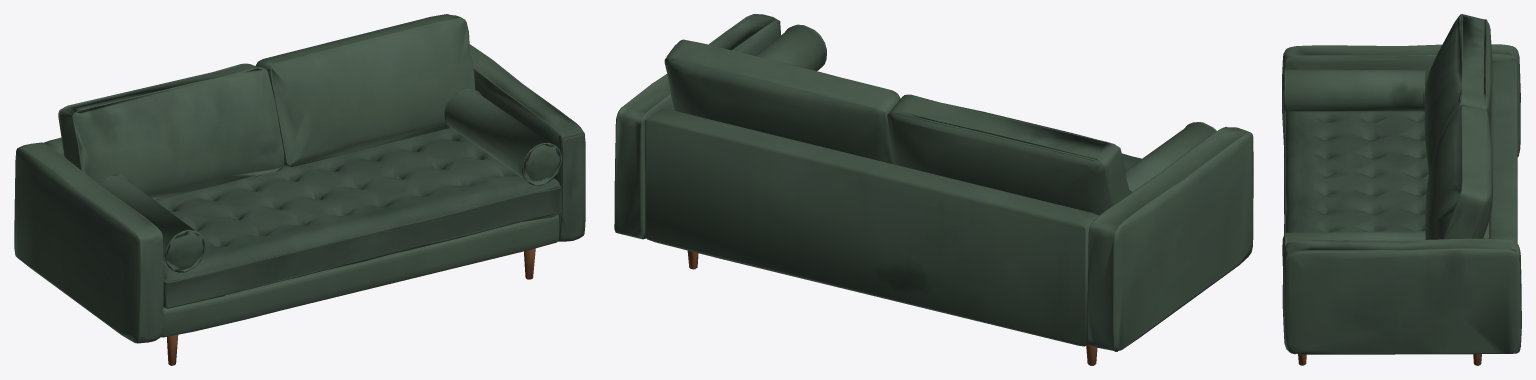
Rendered from B07BKK336B.glb.
3 renders of one model, left to right at view 1: azimuth 30°, elevation 25°; view 2: azimuth 150°, elevation 25°; view 3: azimuth 270°, elevation 25°, orthographic. The views are drawn at different scales.
Visible parts, largest first — view 1: RootNode; view 2: RootNode; view 3: RootNode.
Part boxes in pixels (x1,y1,x2,y2): RootNode: (14, 14, 585, 365); RootNode: (614, 14, 1253, 365); RootNode: (1282, 14, 1521, 365).
Size of the model in its own units: 1.88 by 0.7719 by 0.9145.
Materials: 1 (1 with a texture image).
